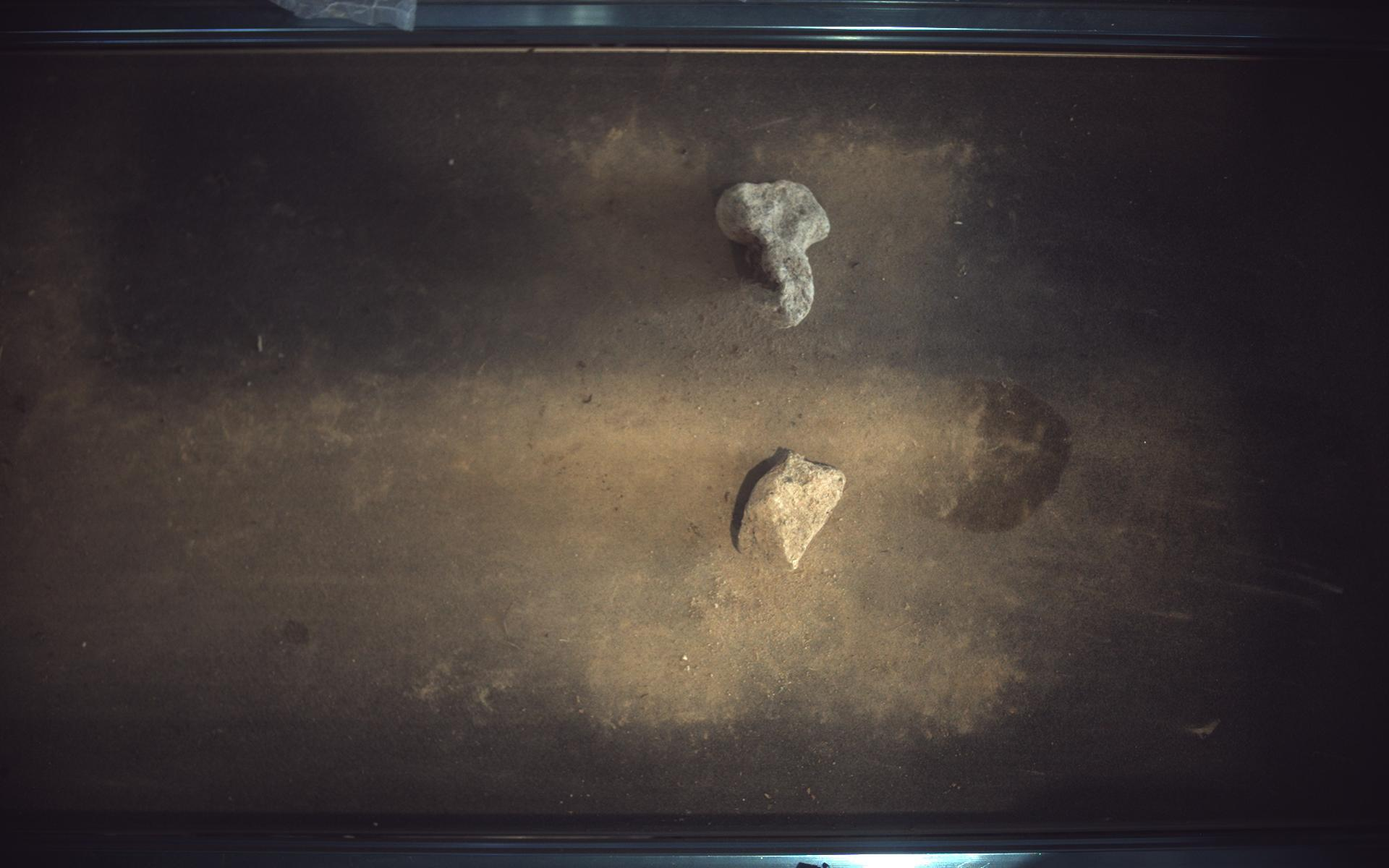stone: (717, 179, 831, 327), (739, 452, 847, 571)
